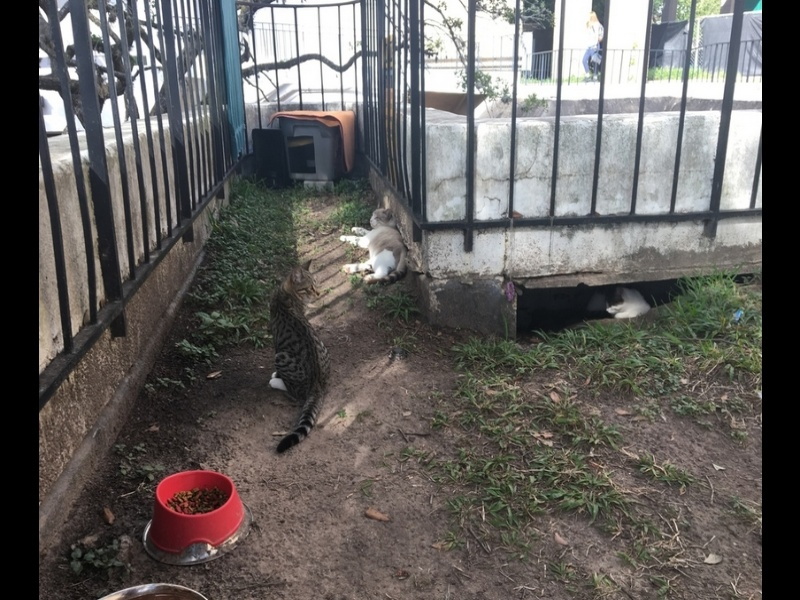cat: (268, 262, 331, 451), (341, 200, 409, 283)
